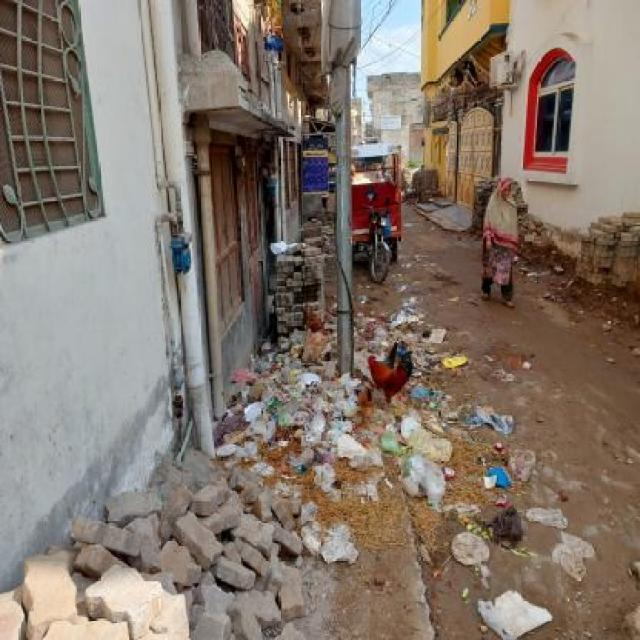garbage: (374, 399, 640, 640), (0, 480, 303, 637), (206, 303, 364, 536), (377, 291, 466, 346), (523, 255, 593, 320), (422, 345, 486, 408)
